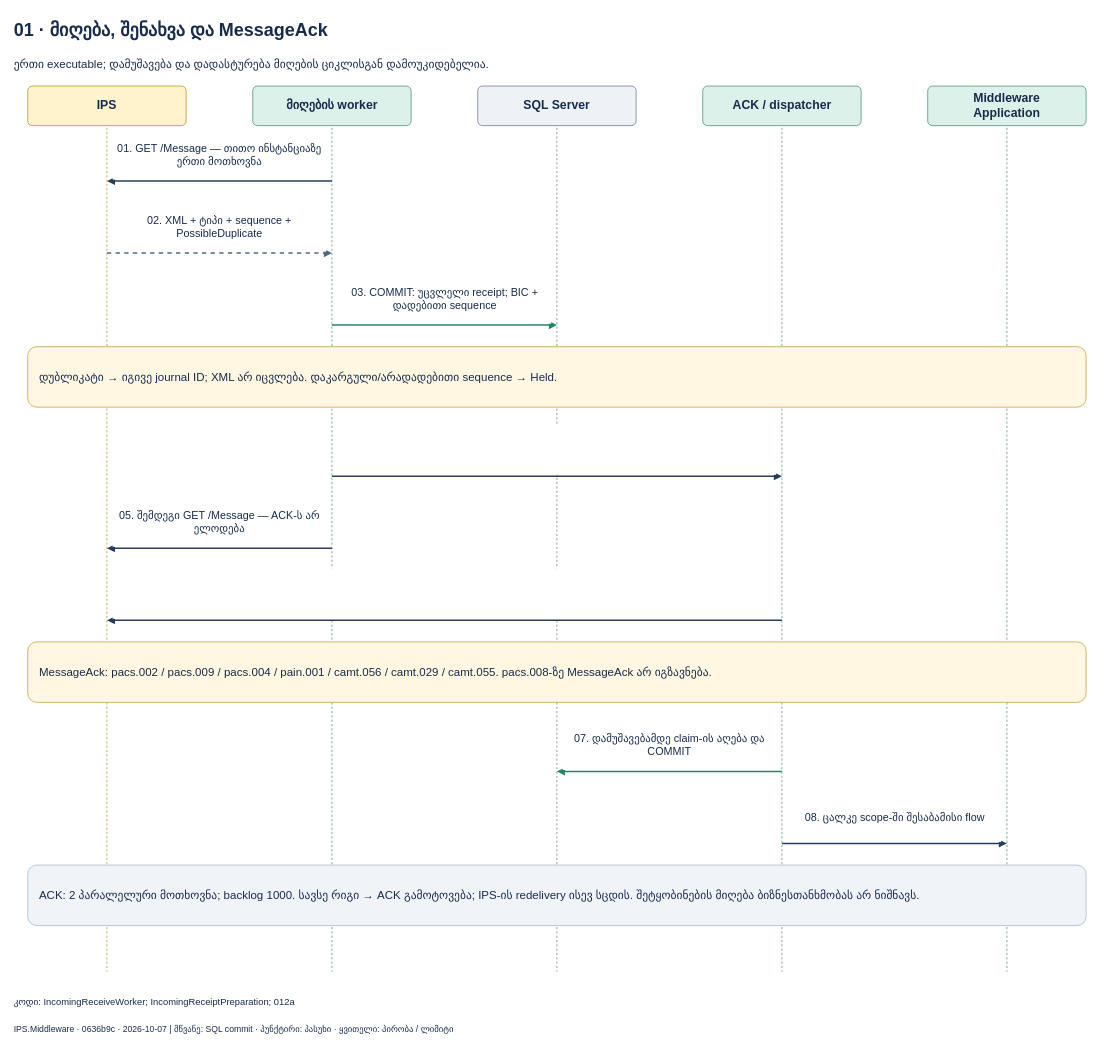
This 1113x1052 diagram has some shape labels left out. Here are the shapes that lost their labels. From the top down, the centre of each, then its label:
At point 556,449: "04. დამუშავების რიგი: journal ID; მხოლოდ commit-ის შემდეგ".
At point 444,593: "06. ცალკე ACK ციკლი: POST /MessageAck + sequence".
